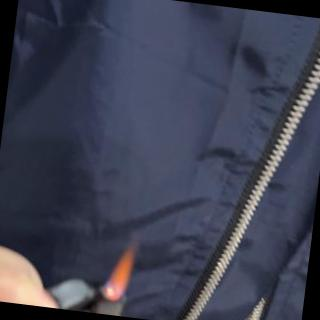fire: (100, 241, 138, 303)
